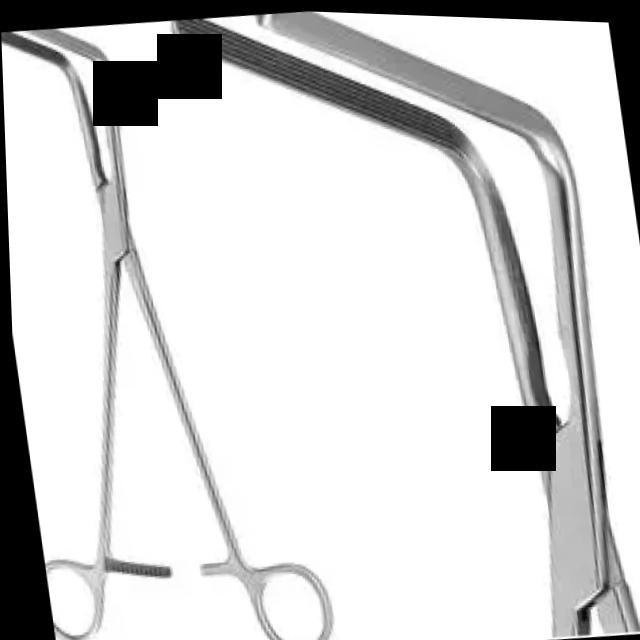Right Angle Colon Clamp: (169, 5, 640, 640), (1, 5, 342, 640)
